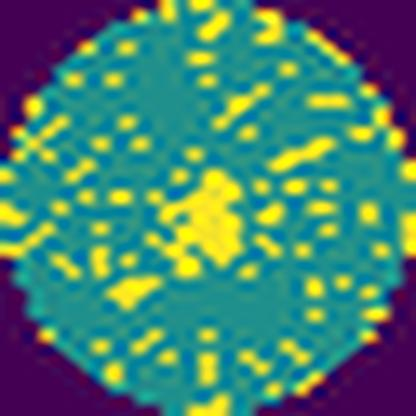Center: (150, 165, 245, 279)
